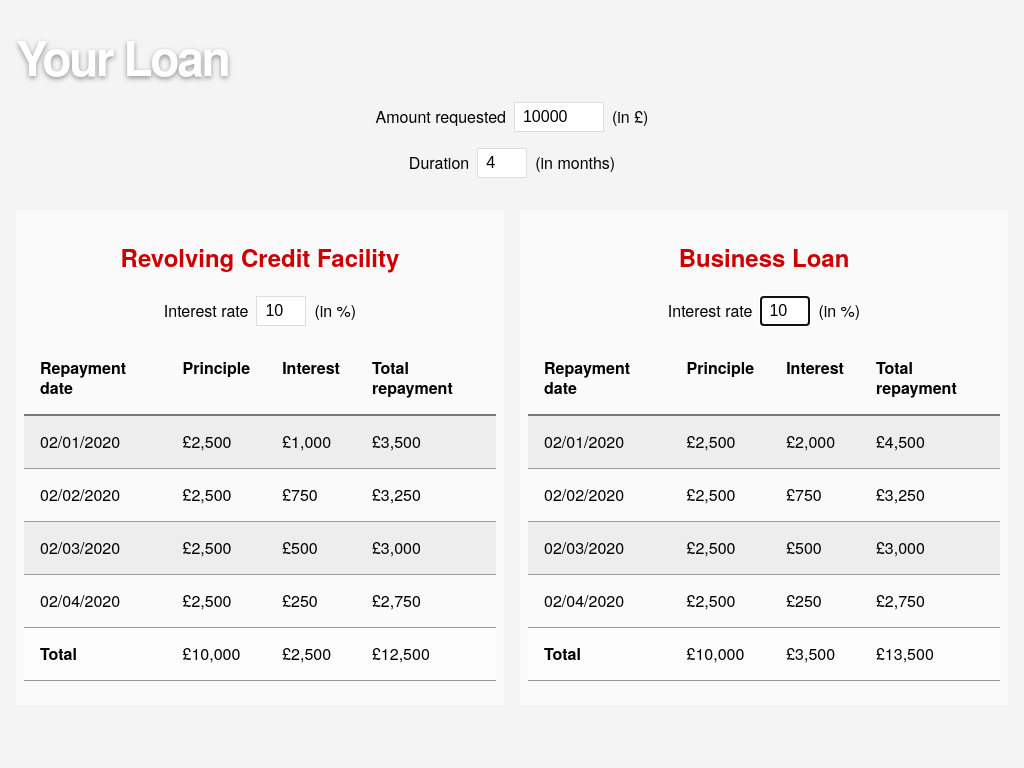
Test: Loan Calculator App › Business Loan is removed when prerequisites not met
Replace the text in the number field with id "amountRequested" with "1000" at (559, 117), box [514, 102, 604, 132]
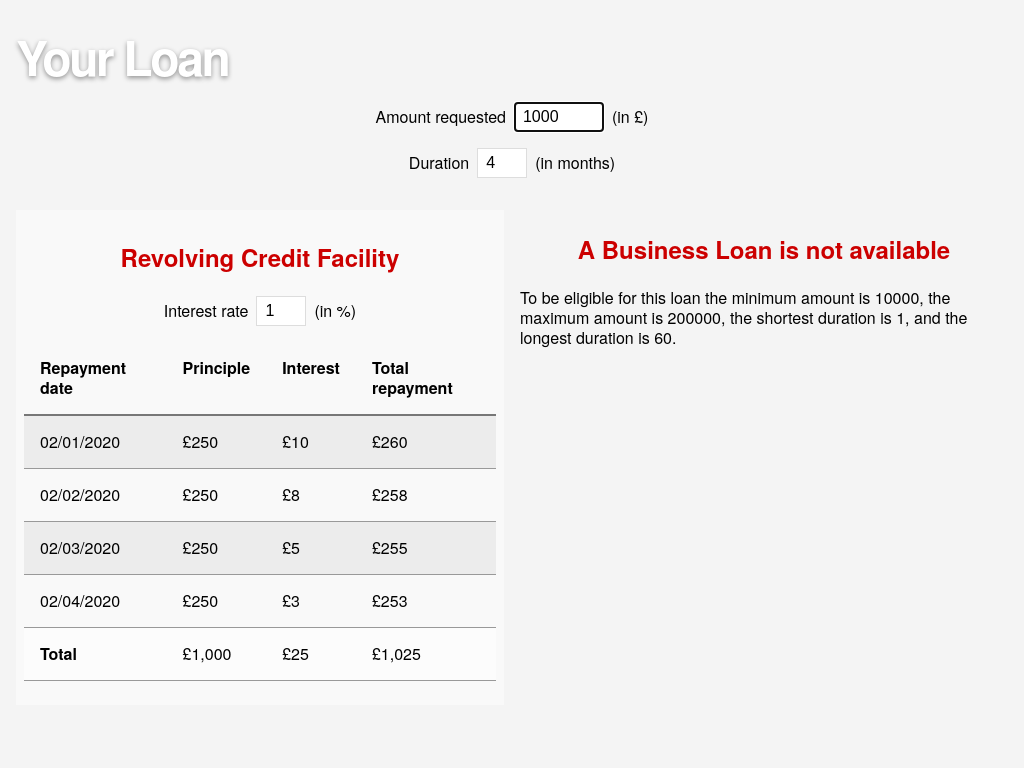
expect the number field with id "business-loan-interest-rate" is gone: met
